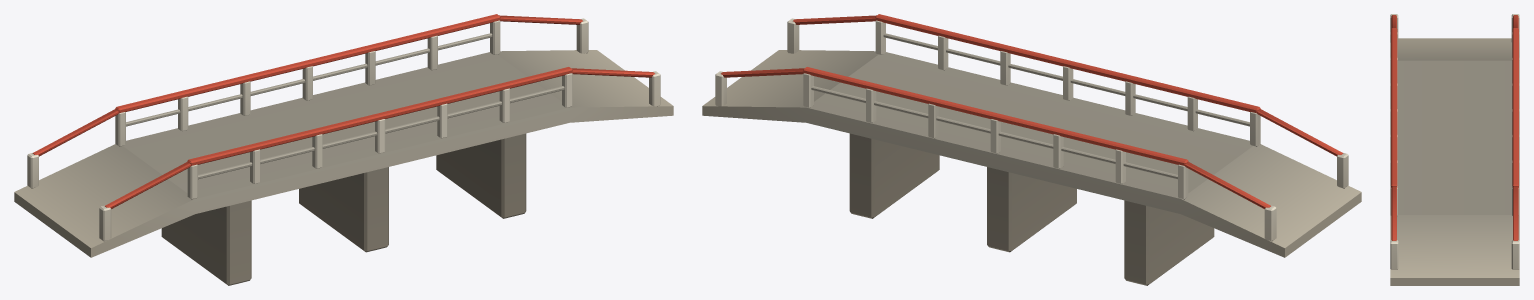
Rendered from jembatan_beton.glb.
3 views of the same model, side by side, from view 1: azimuth 30°, elevation 25°; view 2: azimuth 150°, elevation 25°; view 3: azimuth 270°, elevation 25° (orthographic). The views are drawn at different scales.
Visible parts, largest first — view 1: jembatan_beton_mesh; view 2: jembatan_beton_mesh; view 3: jembatan_beton_mesh.
Part boxes in pixels (x1,y1,x2,y2): jembatan_beton_mesh: [14, 14, 673, 285]; jembatan_beton_mesh: [702, 14, 1361, 285]; jembatan_beton_mesh: [1390, 14, 1519, 285].
Size of the model in its own units: 14 by 3.18 by 3.2.
